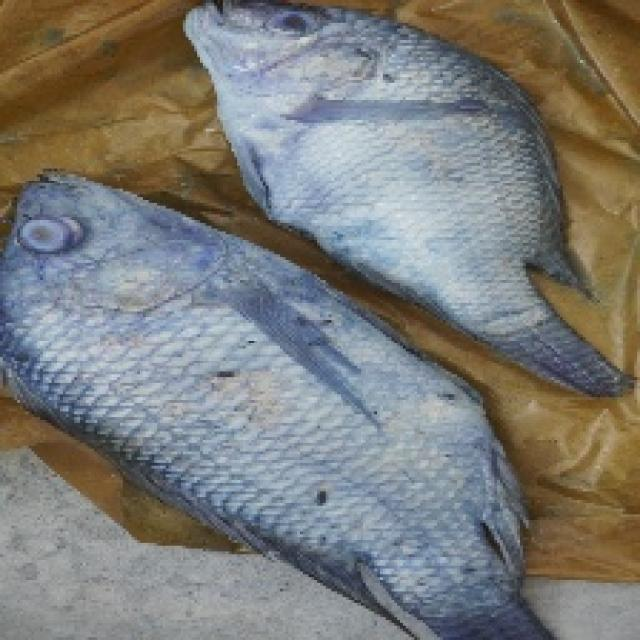Non-Fresh: (9, 190, 455, 601), (189, 6, 586, 214)
